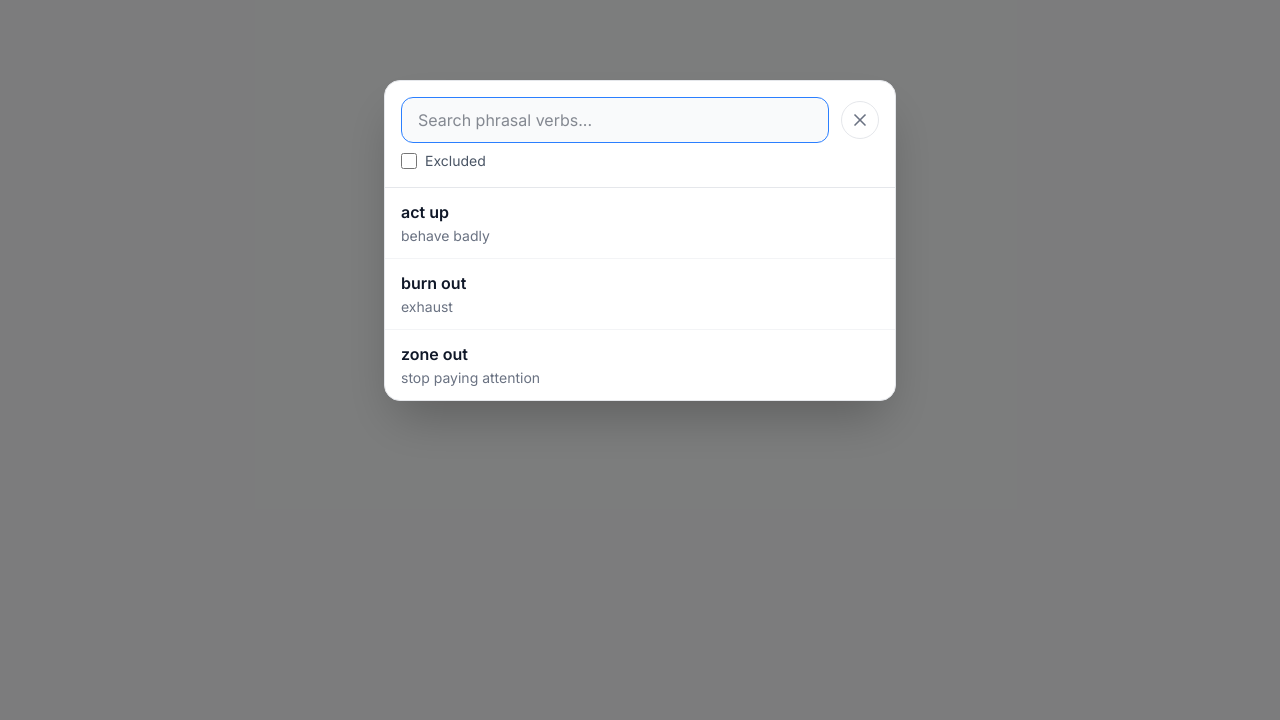
Test: SearchModal › returns matching results sorted by relevance for non-empty query
The width and height of the screenshot is (1280, 720).
Type "out" into the field with placeholder "Search phrasal verbs..." at (615, 120), box [401,97,829,143]
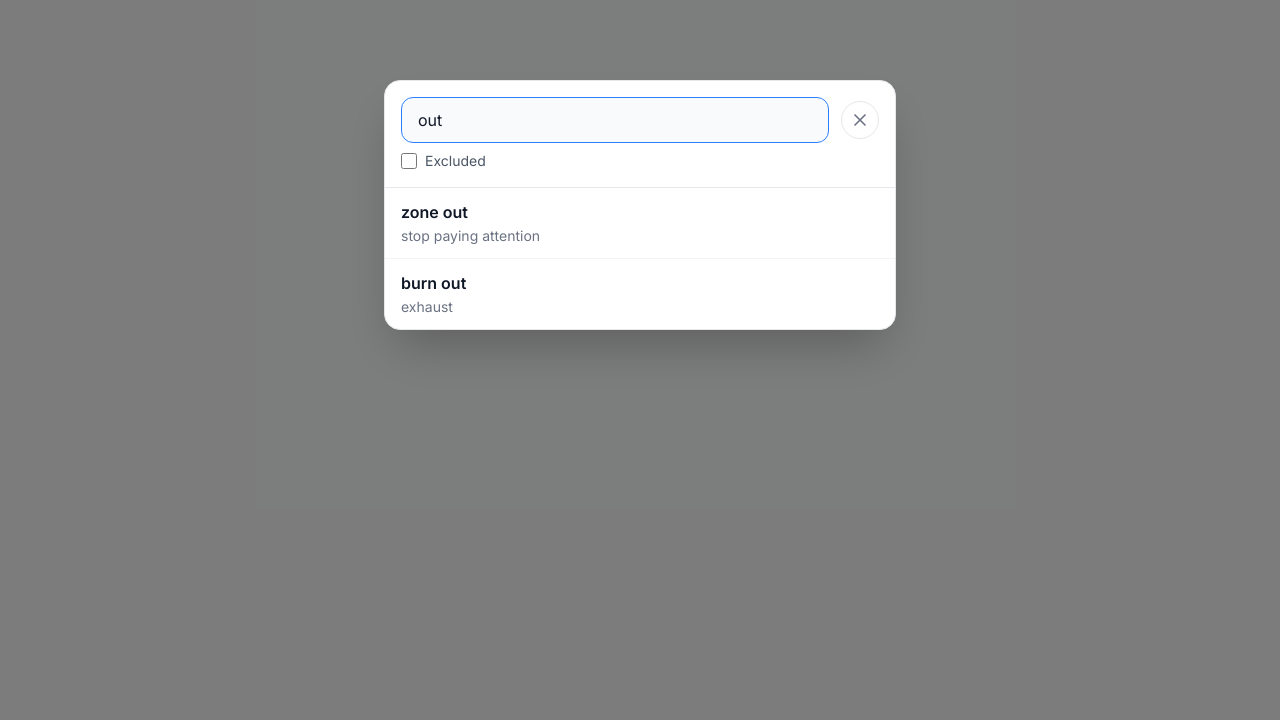
Expected: the text "burn out" is shown, [401,271,466,295]
Expected: the text "act up" is gone
